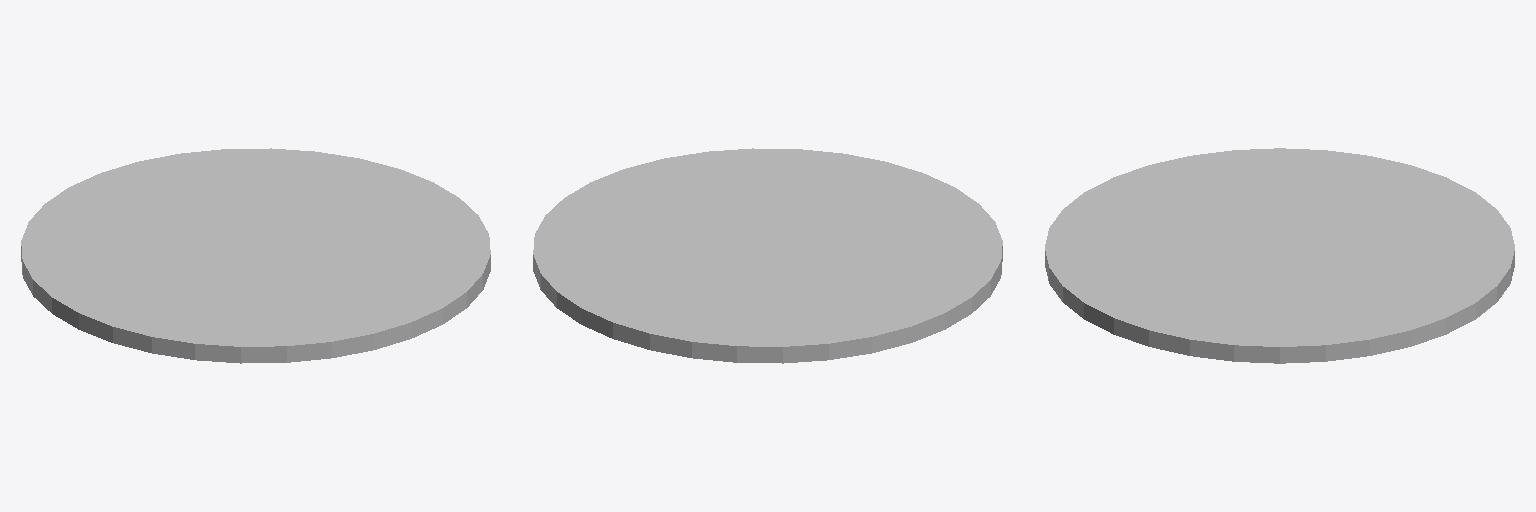
The model's file is ring.obj.
3 renders of one model, left to right at view 1: azimuth 30°, elevation 25°; view 2: azimuth 150°, elevation 25°; view 3: azimuth 270°, elevation 25°, orthographic.
Visible parts, largest first — view 1: Cylinder.001; view 2: Cylinder.001; view 3: Cylinder.001.
Boxes of the visible parts, x1,y1,x2,y2 form: Cylinder.001: [21, 148, 490, 363]; Cylinder.001: [533, 148, 1002, 363]; Cylinder.001: [1045, 148, 1514, 363].
Bounding box in the file's own units: 2.32 × 0.0898 × 2.32.